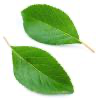Apple leaf: (9, 44, 78, 95), (19, 3, 86, 46)
